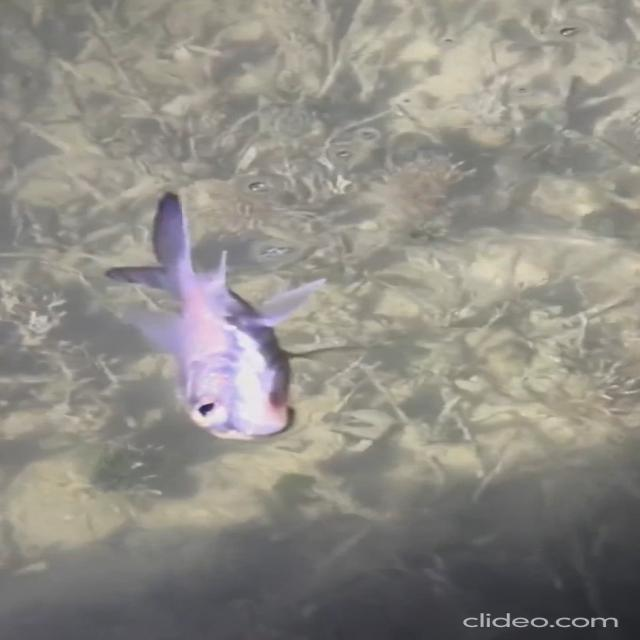fish: (95, 172, 355, 452)
